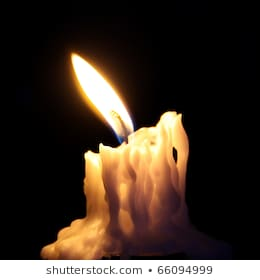Fire: (68, 50, 138, 144)
